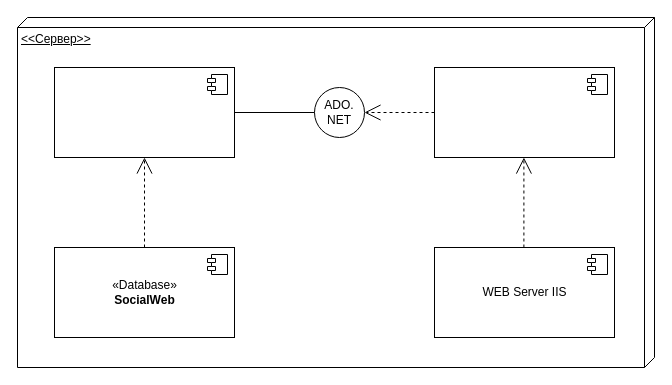
The diagram is 672 pixels wide and 385 high, and some of its shapes have lost their labels. Here are the shapes that lost their labels. From the top down, the box of each, then its label:
(54, 66, 234, 158): «СУБД» MS SQL Server
(434, 66, 614, 158): «executable» file.sln
